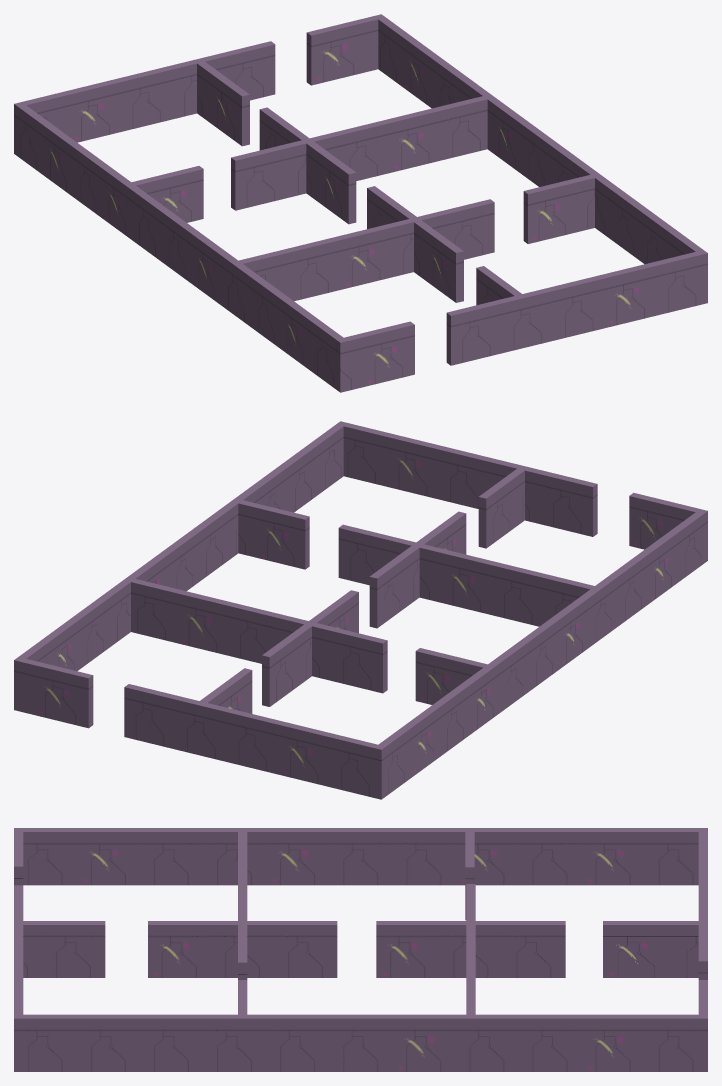
File: Walls.fbx
3 renders of one model, top to bottom at view 1: azimuth 30°, elevation 25°; view 2: azimuth 150°, elevation 25°; view 3: azimuth 270°, elevation 25°, orthographic. The views are drawn at different scales.
Parts seen in each view (by area): view 1: Walls; view 2: Walls; view 3: Walls.
Part boxes in pixels (x1,y1,x2,y2): Walls: (14,14,707,392); Walls: (14,421,707,799); Walls: (14,828,707,1071).
Size of the model in its own units: 15.4 by 2 by 23.7.
Materials: 2 (2 with a texture image).
